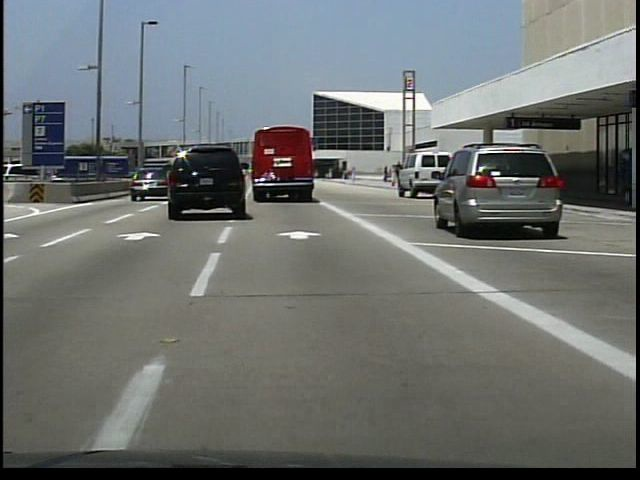person: (393, 159, 405, 195)
